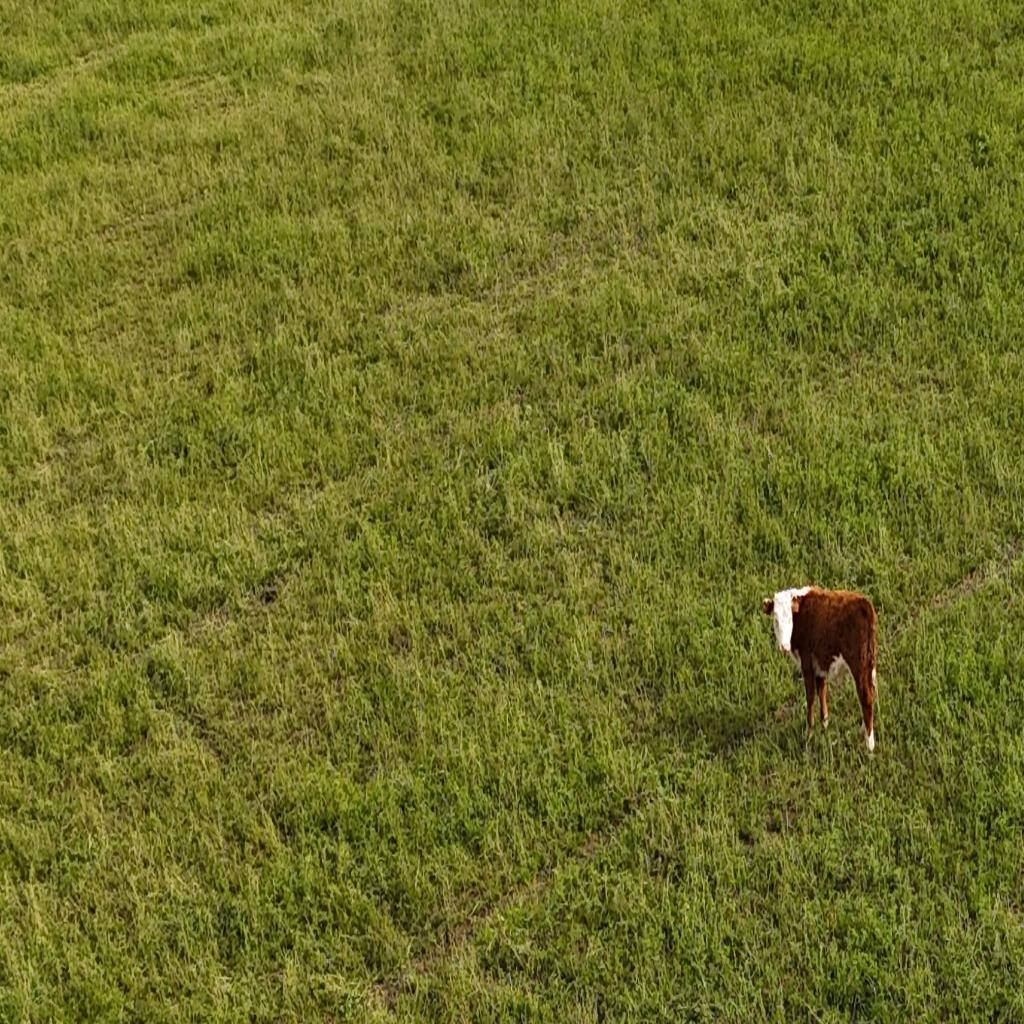cow: (759, 582, 880, 754)
